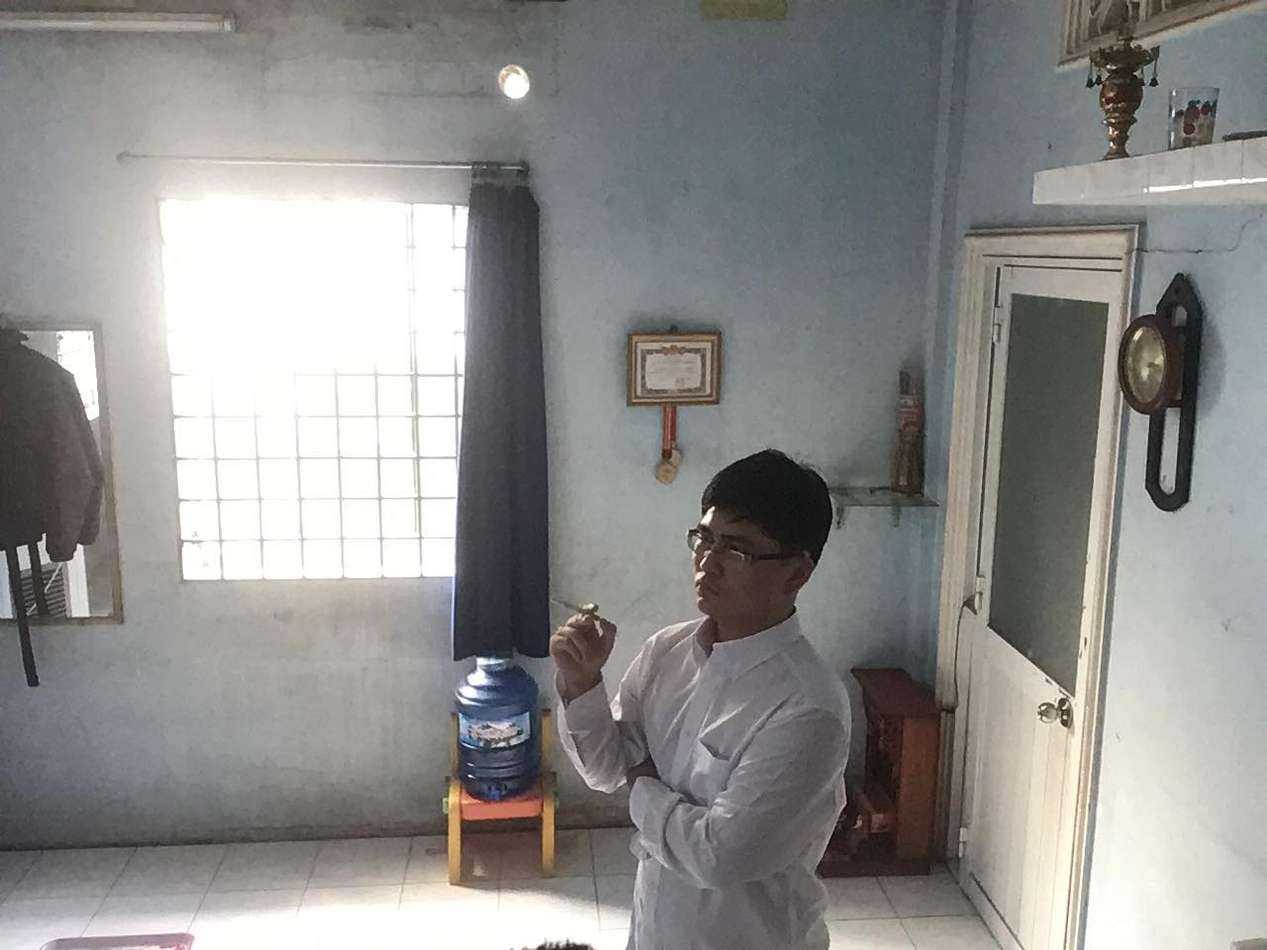cigarette: (547, 591, 619, 626)
person: (528, 437, 877, 950)
